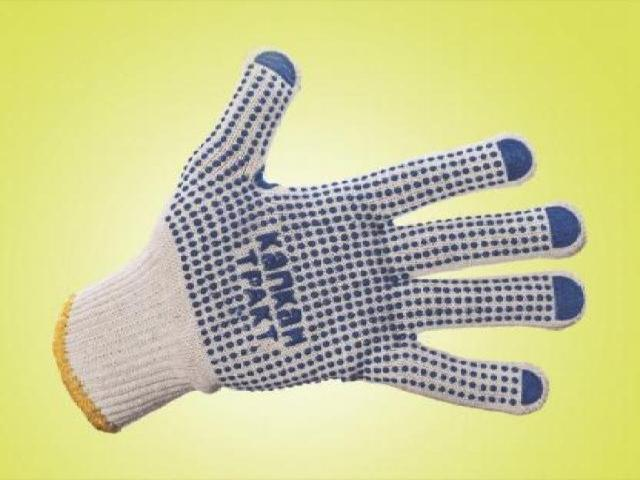Hand-in-Glove: (39, 48, 590, 418)
